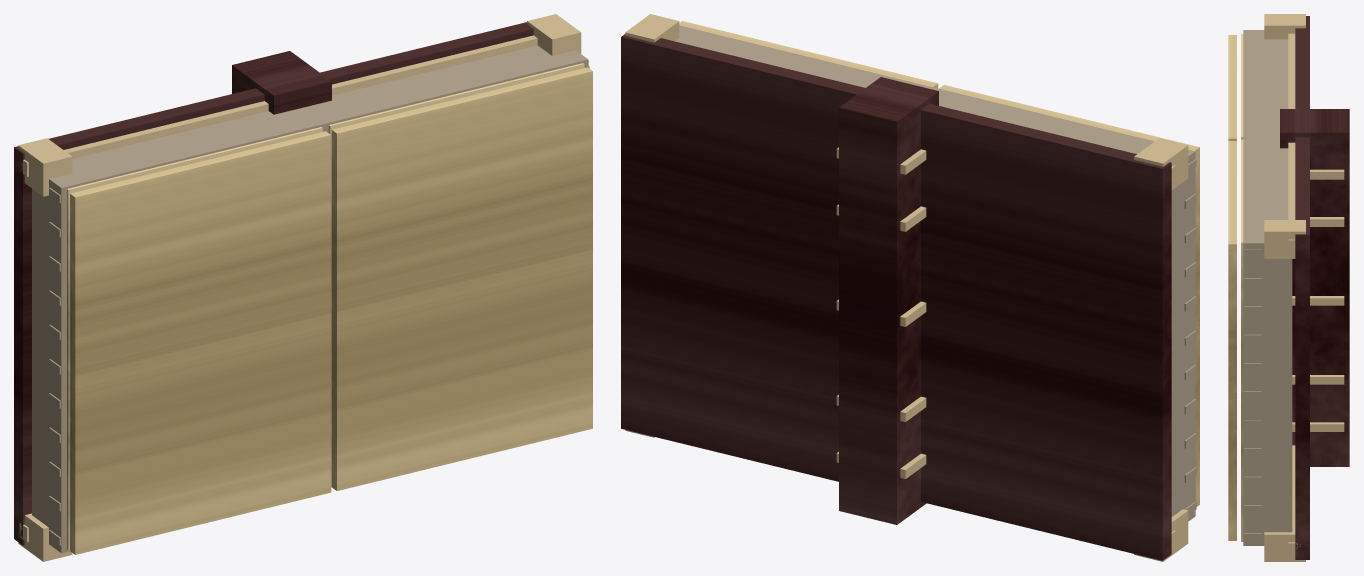
The model's file is Grimoire_Open.glb.
The picture shows the model from 3 angles, left to right: view 1: azimuth 30°, elevation 25°; view 2: azimuth 150°, elevation 25°; view 3: azimuth 270°, elevation 25°; orthographic projection. The views are drawn at different scales.
Visible parts, largest first — view 1: Baked_Aged paper, Baked_Dirt on page edges, Baked_Oxblood leather, Baked_Worn gold; view 2: Baked_Oxblood leather, Baked_Dirt on page edges, Baked_Worn gold, Baked_Aged paper; view 3: Baked_Dirt on page edges, Baked_Oxblood leather, Baked_Worn gold, Baked_Aged paper.
Part boxes in pixels (x1,y1,x2,y2): Baked_Aged paper: (67, 63, 592, 554); Baked_Dirt on page edges: (32, 45, 589, 553); Baked_Oxblood leather: (14, 22, 533, 545); Baked_Worn gold: (18, 14, 581, 561); Baked_Oxblood leather: (621, 34, 1171, 560); Baked_Dirt on page edges: (675, 25, 1196, 521); Baked_Worn gold: (625, 14, 1188, 561); Baked_Aged paper: (679, 21, 1199, 506); Baked_Dirt on page edges: (1243, 30, 1292, 545); Baked_Oxblood leather: (1280, 16, 1349, 559); Baked_Worn gold: (1264, 14, 1344, 561); Baked_Aged paper: (1228, 34, 1243, 541).
Bounding box in the file's own units: 1.49 × 1.06 × 0.3485.
Materials: 4 (2 with a texture image).
